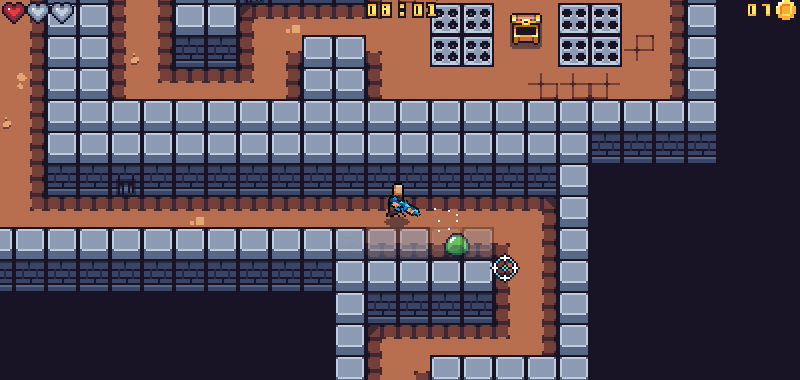enemy_slug: (442, 231, 472, 260)
trap_off: (429, 2, 494, 66), (558, 2, 623, 65)
treasury_open: (510, 10, 544, 46)
